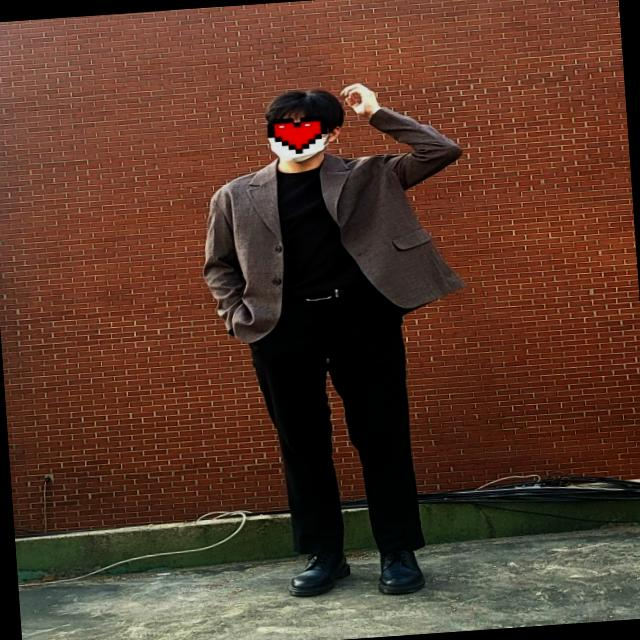blazer: (196, 98, 477, 344)
slacks: (239, 274, 428, 558)
